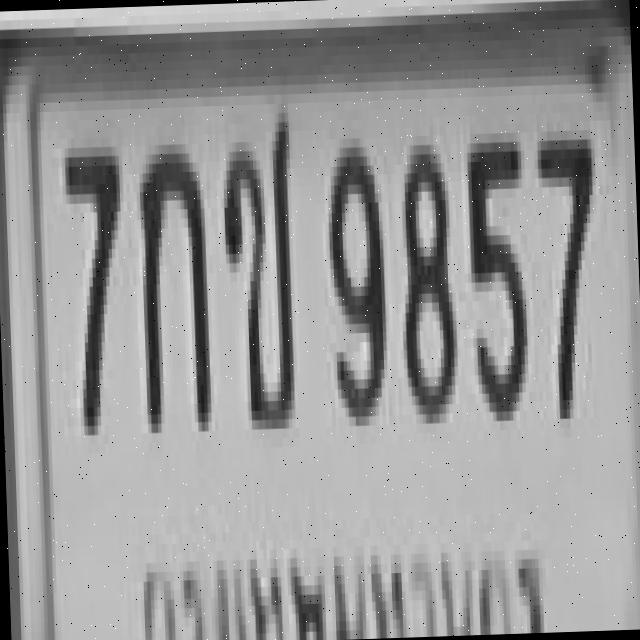10GorGai: (134, 134, 208, 424)
19ChorChang: (217, 102, 295, 420)
5: (463, 132, 526, 412)
7: (60, 137, 124, 426), (534, 130, 596, 410)
8: (396, 135, 456, 415)
9: (322, 138, 385, 418)
